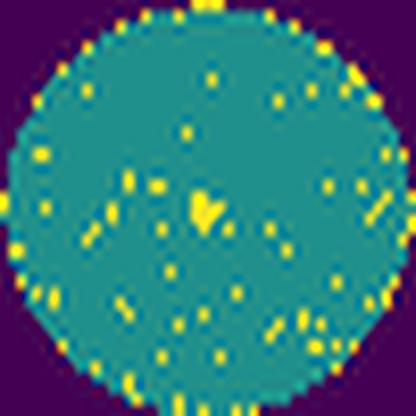Center: (190, 190, 223, 237)
